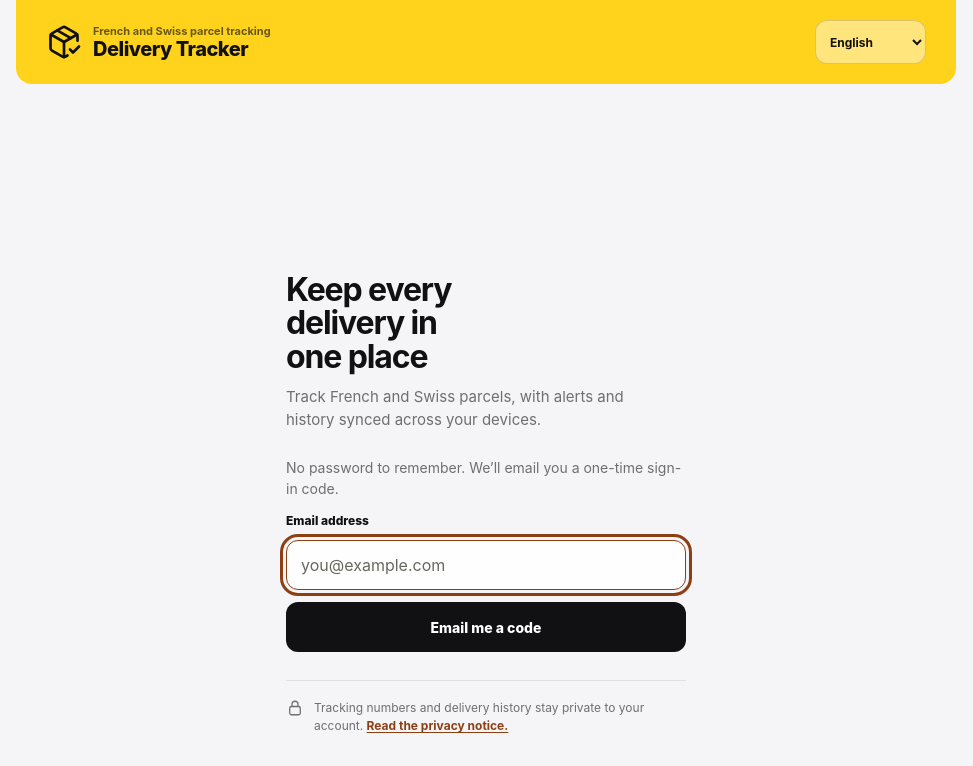
Test: SignInScreen › keeps provider errors actionable
The image size is (973, 766).
Type "owner@example.test" into the field labelled "Email address".
click(486, 565); type("owner@example.test")  # box [286,540,686,590]
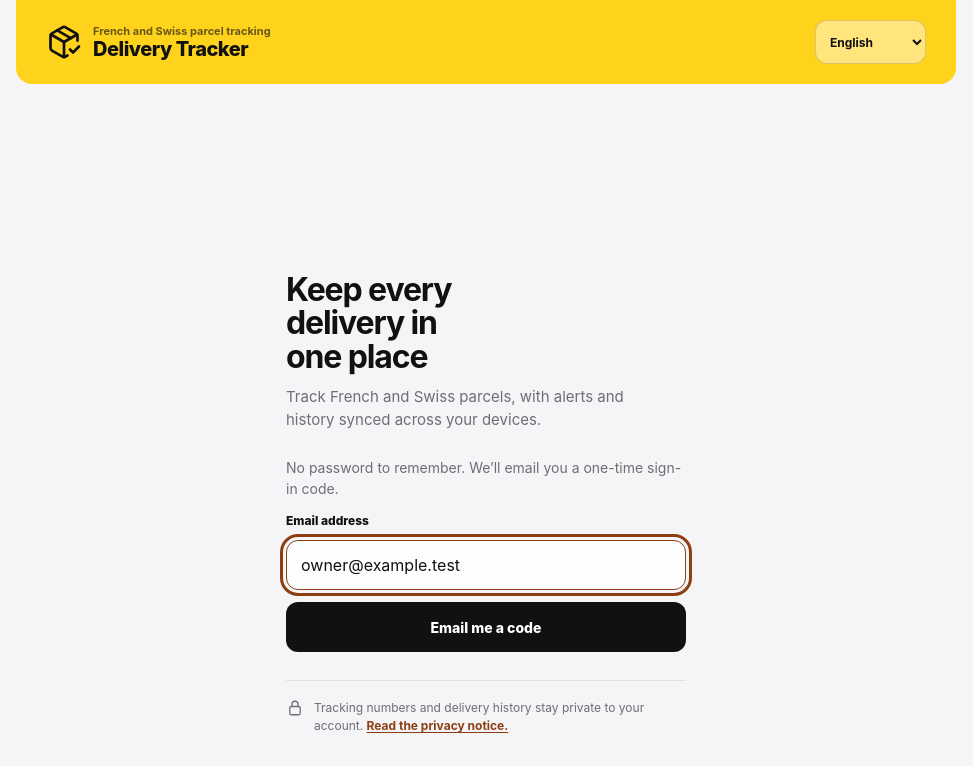
Click the button "Email me a code".
click(486, 627)  # box [286,602,686,652]
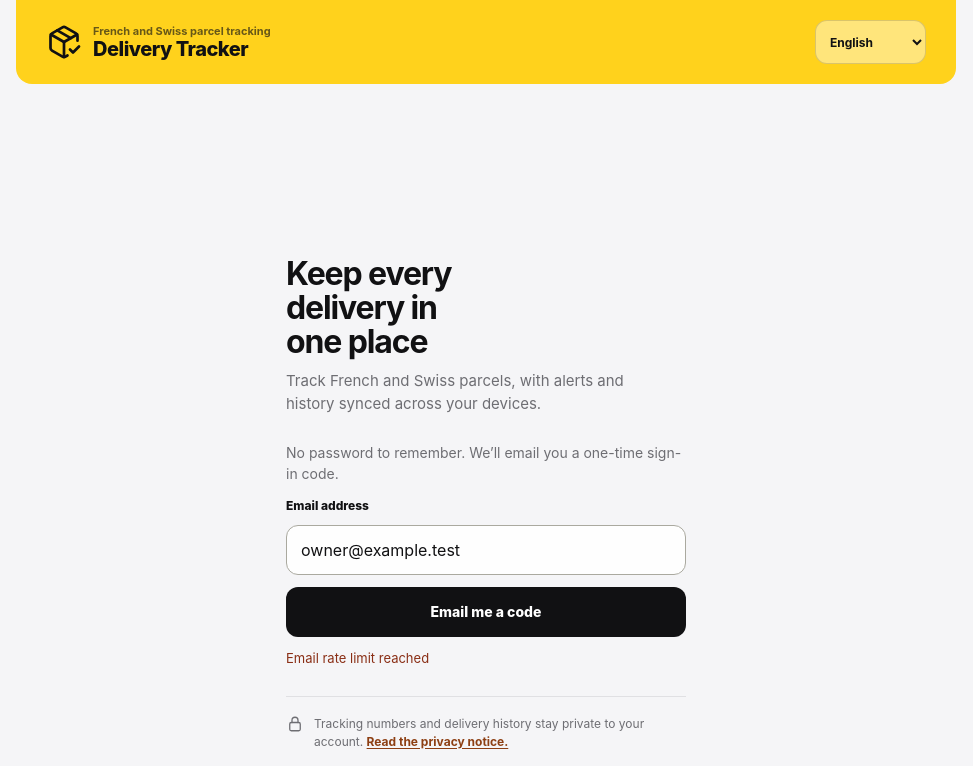
expect the message reads "Email rate limit reached": met, box [286,650,429,666]
